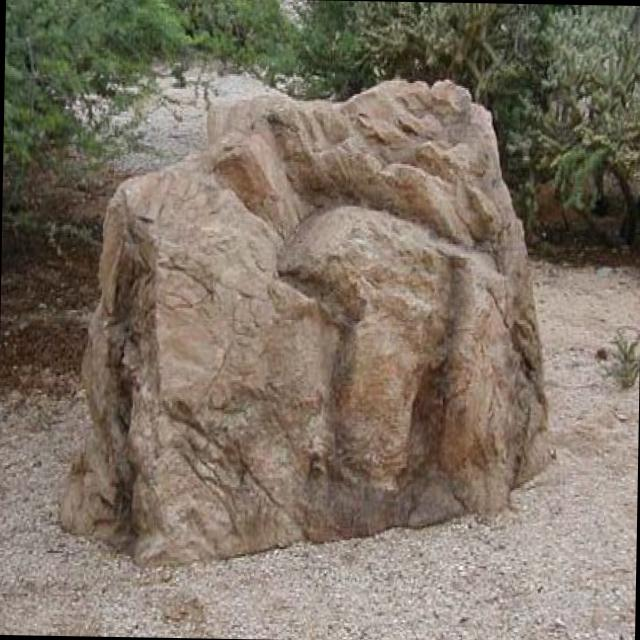stone: (60, 80, 546, 561)
white-sand: (0, 265, 640, 640)
